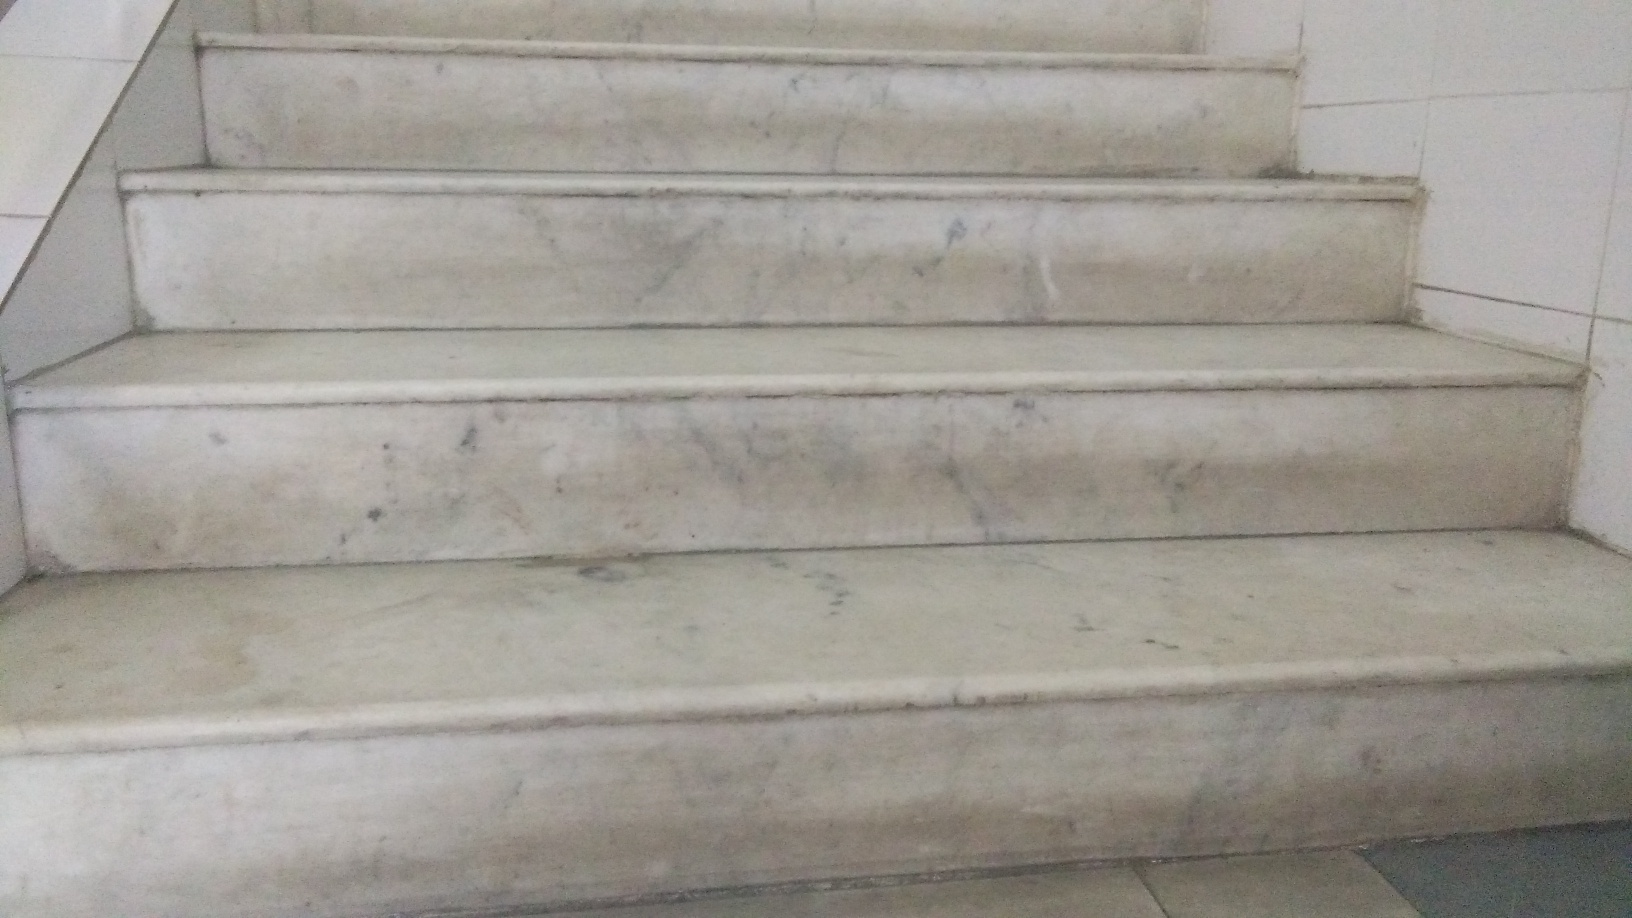stairs_up: (6, 3, 1628, 873)
